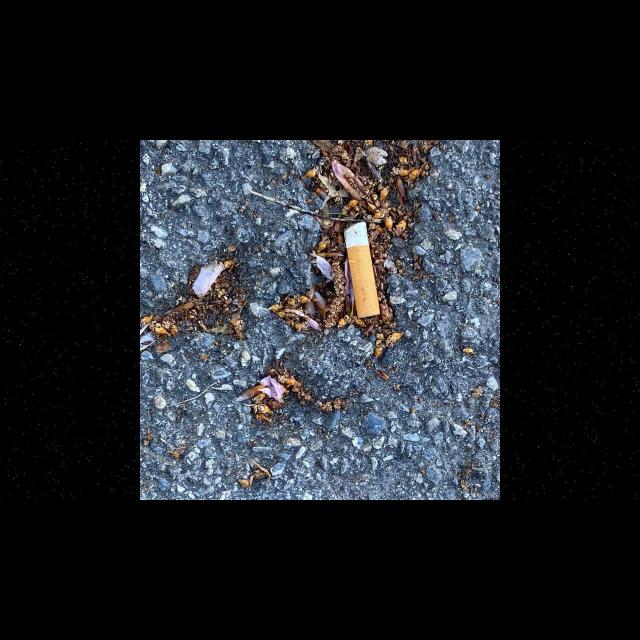cigarette: (343, 220, 381, 318)
